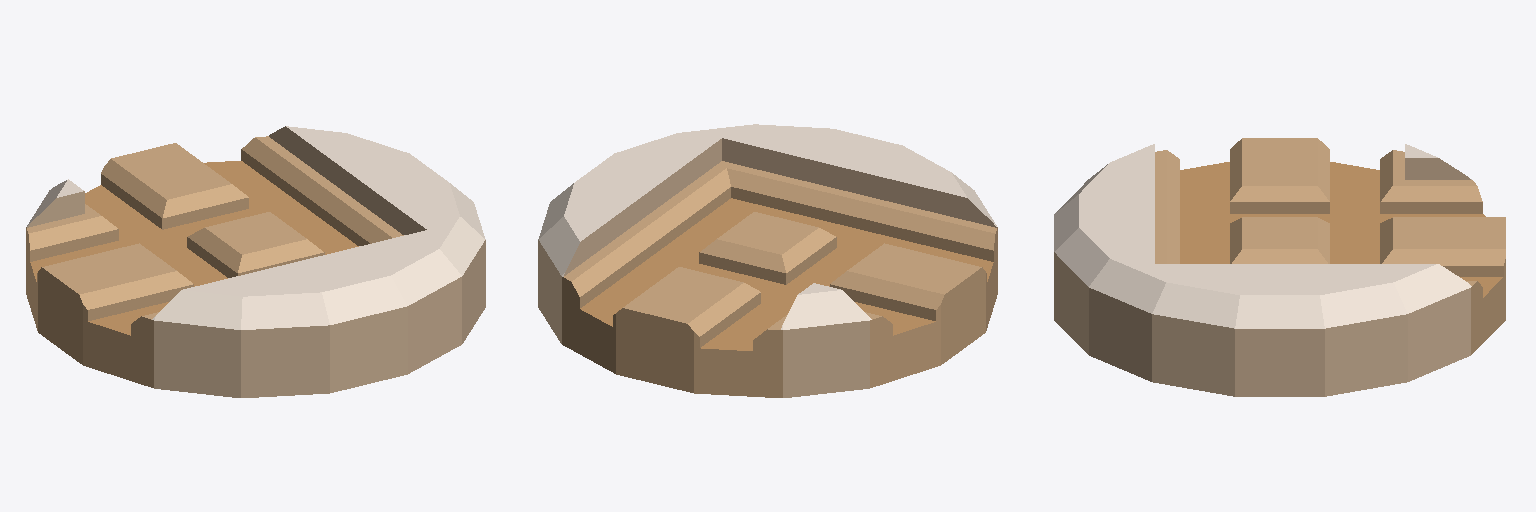
Rendered from Puzzle_Track_Rotating_Platform_Corner.obj.
3 views of the same model, side by side, from view 1: azimuth 30°, elevation 25°; view 2: azimuth 150°, elevation 25°; view 3: azimuth 270°, elevation 25° (orthographic).
Visible parts, largest first — view 1: object1; view 2: object1; view 3: object1.
Boxes of the visible parts, box(x1,y1,x2,y2) form: object1: box(26, 126, 485, 397); object1: box(538, 124, 997, 397); object1: box(1054, 138, 1505, 396).
Bounding box in the file's own units: 0.9 × 0.2 × 0.9.